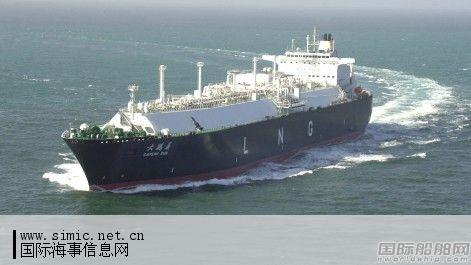Cargoship: (55, 29, 375, 191)
